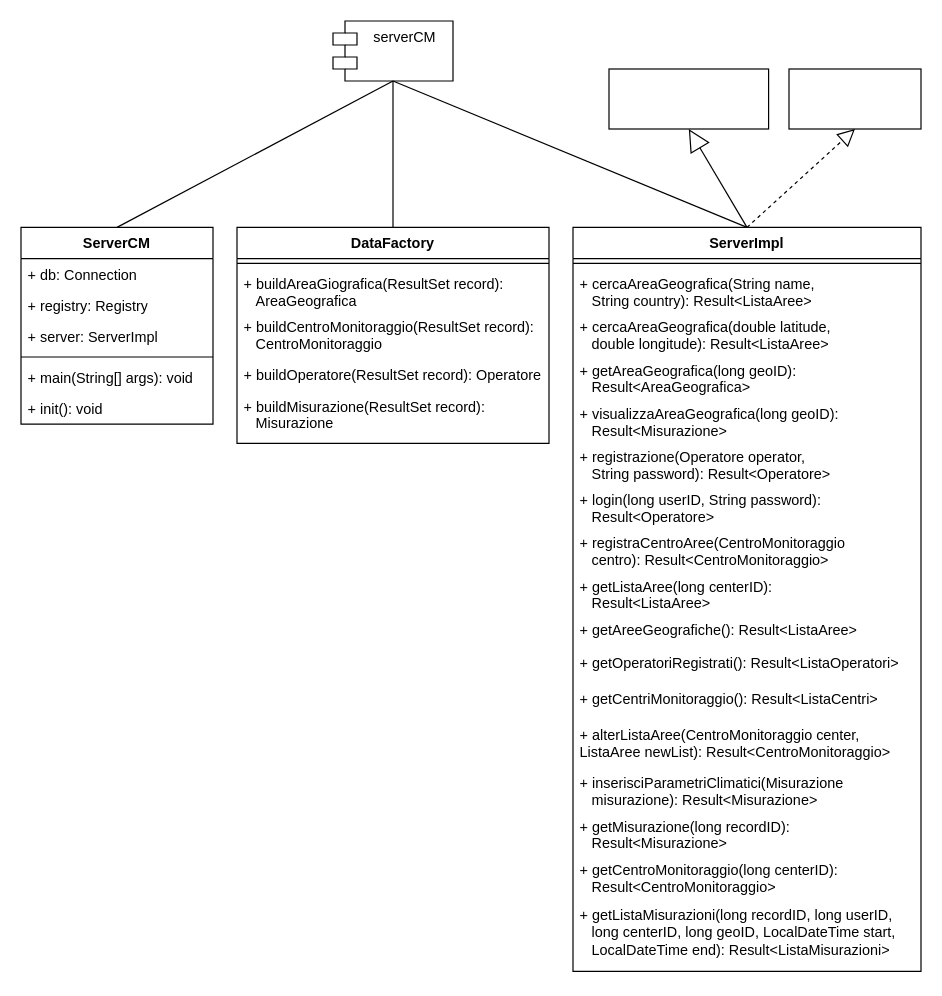
The diagram is 942 pixels wide and 996 high, and some of its shapes have lost their labels. Here are the shapes that lost their labels. From the top down, the centre of each, then its label:
pixel 688 98: UnicastRemoteObject
pixel 854 98: «interface» ServicesCM
